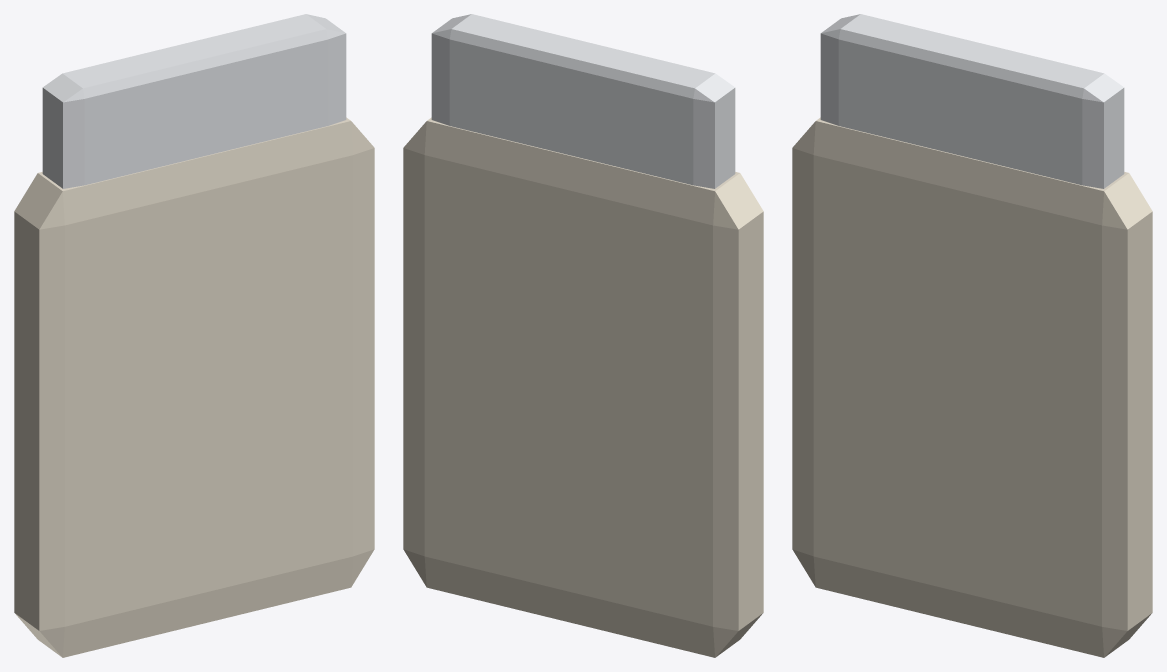
File: b17_table_tennis_paddle.glb
3 renders of one model, left to right at view 1: azimuth 30°, elevation 25°; view 2: azimuth 150°, elevation 25°; view 3: azimuth 330°, elevation 25°, orthographic.
Parts seen in each view (by area): view 1: b17_table_tennis_paddle; view 2: b17_table_tennis_paddle; view 3: b17_table_tennis_paddle.
Part boxes in pixels (<box>): b17_table_tennis_paddle: <box>14,14,374,657</box>; b17_table_tennis_paddle: <box>403,14,763,657</box>; b17_table_tennis_paddle: <box>792,14,1152,657</box>.
Bounding box in the file's own units: 0.166 × 0.266 × 0.025.
